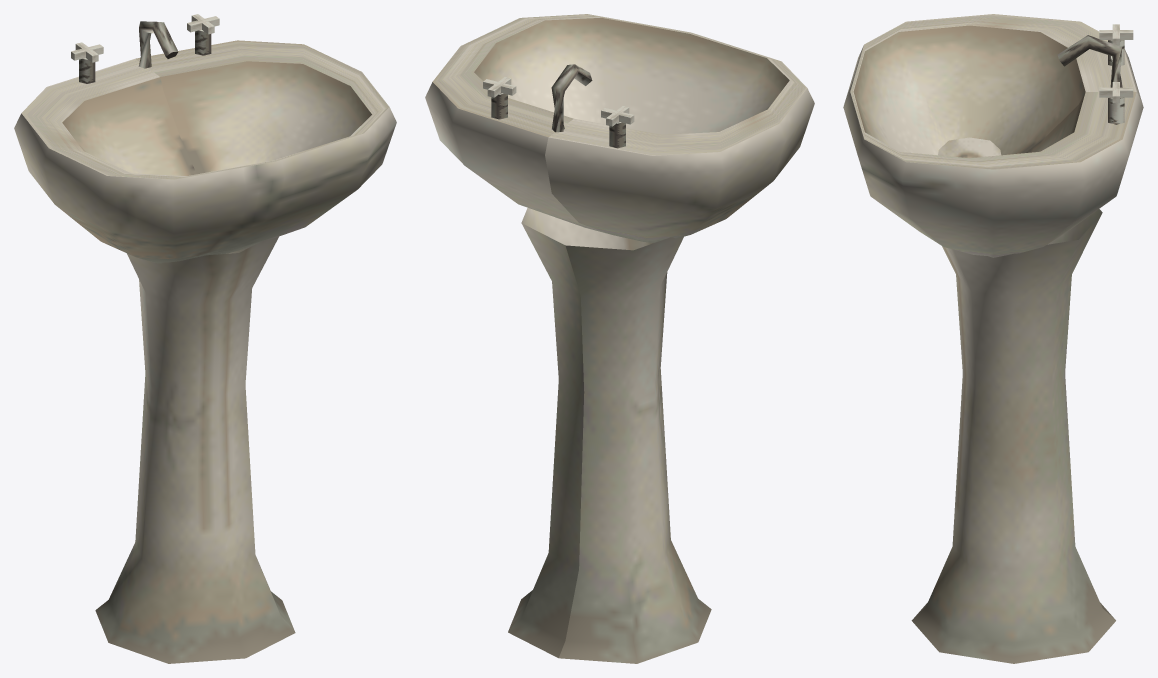
The model's file is sink_pedestal.obj.
3 renders of one model, left to right at view 1: azimuth 30°, elevation 25°; view 2: azimuth 150°, elevation 25°; view 3: azimuth 270°, elevation 25°, orthographic.
Parts seen in each view (by area): view 1: sink_pedestal; view 2: sink_pedestal; view 3: sink_pedestal.
Boxes of the visible parts, x1,y1,x2,y2 form: sink_pedestal: (14,14,396,663); sink_pedestal: (425,14,814,663); sink_pedestal: (843,14,1143,663).
Size of the model in its own units: 0.56 by 0.9454 by 0.44.
1 material, 1 textured.
